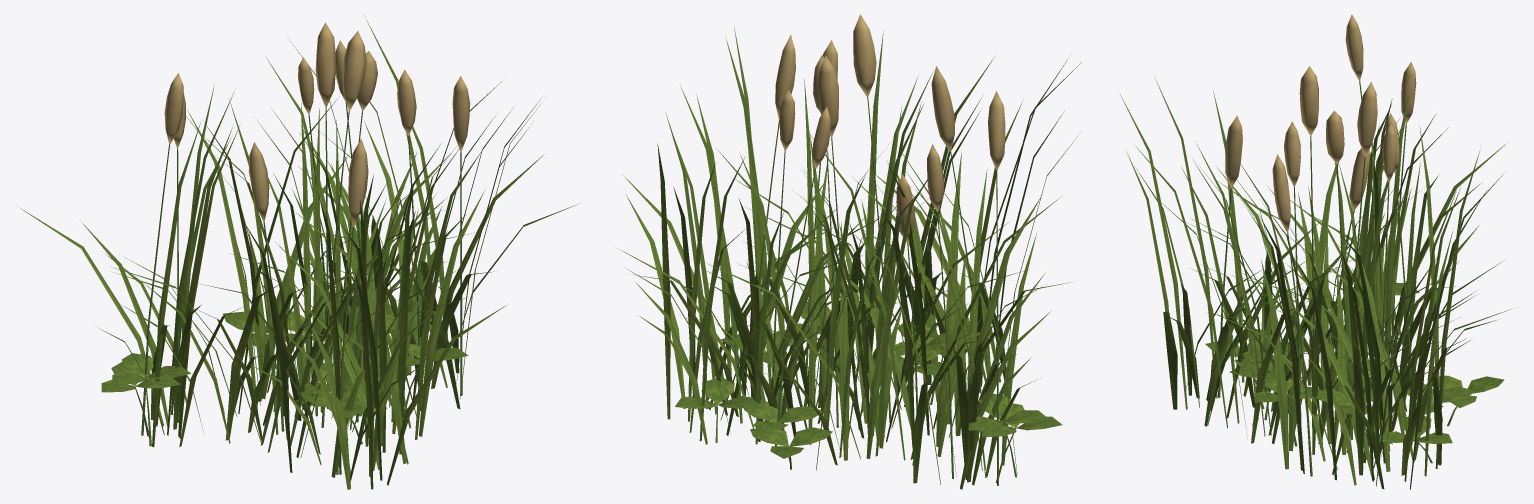
Rendered from b-meadowc.glb.
The picture shows the model from 3 angles, left to right: view 1: azimuth 30°, elevation 25°; view 2: azimuth 150°, elevation 25°; view 3: azimuth 270°, elevation 25°; orthographic projection. The views are drawn at different scales.
Parts seen in each view (by area): view 1: PatchFoliage, PatchSeedHeads, PatchStems; view 2: PatchFoliage, PatchSeedHeads, PatchStems; view 3: PatchFoliage, PatchSeedHeads, PatchStems.
Boxes of the visible parts, x1=… form: PatchFoliage: x1=19, y1=15, x2=580, y2=489; PatchSeedHeads: x1=164, y1=22, x2=470, y2=227; PatchStems: x1=135, y1=102, x2=462, y2=474; PatchFoliage: x1=615, y1=26, x2=1081, y2=489; PatchSeedHeads: x1=775, y1=14, x2=1005, y2=243; PatchStems: x1=715, y1=97, x2=1016, y2=485; PatchFoliage: x1=1119, y1=76, x2=1511, y2=489; PatchSeedHeads: x1=1225, y1=14, x2=1416, y2=232; PatchStems: x1=1218, y1=80, x2=1457, y2=476.
Size of the model in its own units: 1.18 by 0.95 by 0.9533.
3 materials, 1 textured.
